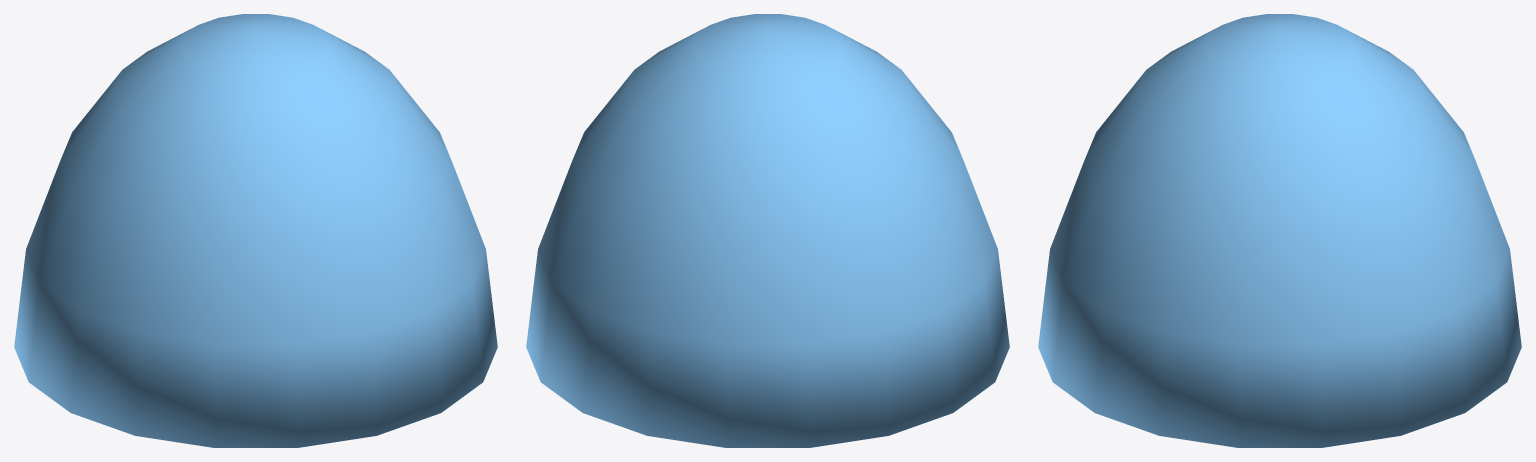
The model's file is candy_gumdrop_blue.glb.
3 renders of one model, left to right at view 1: azimuth 30°, elevation 25°; view 2: azimuth 150°, elevation 25°; view 3: azimuth 270°, elevation 25°, orthographic.
Parts seen in each view (by area): view 1: candy_gumdrop_blue; view 2: candy_gumdrop_blue; view 3: candy_gumdrop_blue.
Part boxes in pixels (bbox=[...]): candy_gumdrop_blue: bbox=[14, 14, 497, 447]; candy_gumdrop_blue: bbox=[526, 14, 1009, 447]; candy_gumdrop_blue: bbox=[1038, 14, 1521, 447].
Bounding box in the file's own units: 3.55 × 2.61 × 3.6.
